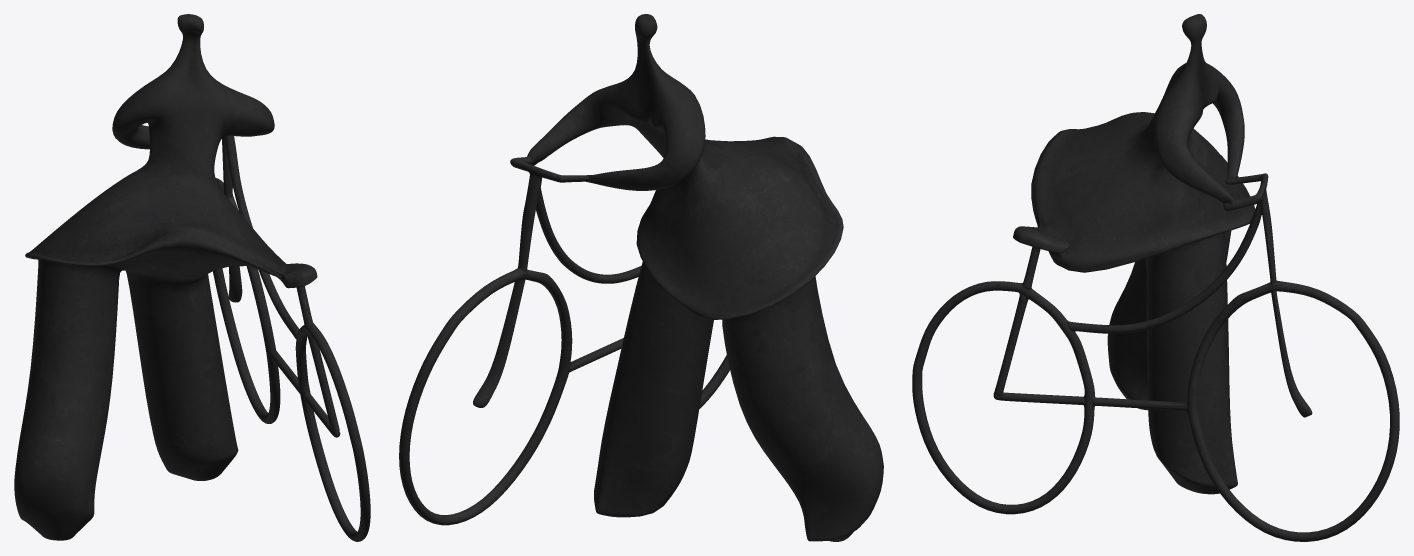
3 renders of one model, left to right at view 1: azimuth 30°, elevation 25°; view 2: azimuth 150°, elevation 25°; view 3: azimuth 270°, elevation 25°, orthographic. The views are drawn at different scales.
Visible parts, largest first — view 1: SM_AI_vol12_04_prop_5_2; view 2: SM_AI_vol12_04_prop_5_2; view 3: SM_AI_vol12_04_prop_5_2.
Boxes of the visible parts, x1,y1,x2,y2 form: SM_AI_vol12_04_prop_5_2: (14, 14, 370, 541); SM_AI_vol12_04_prop_5_2: (399, 14, 883, 541); SM_AI_vol12_04_prop_5_2: (912, 14, 1399, 541).
Size of the model in its own units: 1.2 by 1.62 by 1.54.
Materials: 1 (1 with a texture image).
